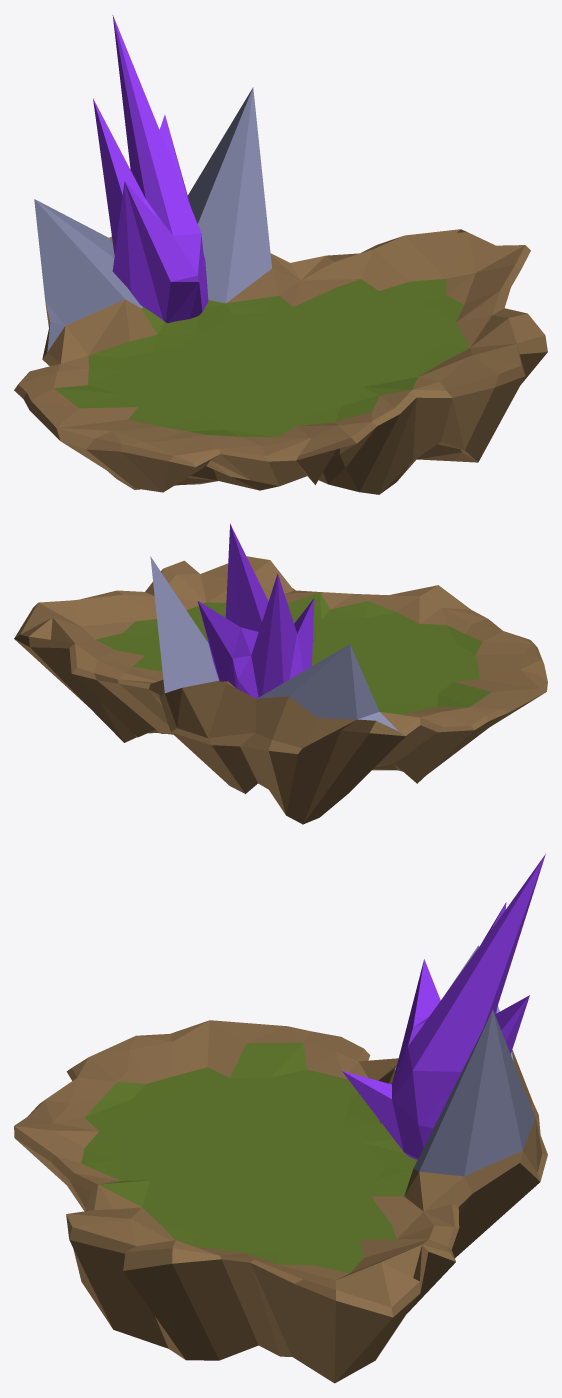
The model's file is IslandFinal.fbx.
3 views of the same model, one above another, from view 1: azimuth 30°, elevation 25°; view 2: azimuth 150°, elevation 25°; view 3: azimuth 270°, elevation 25° (orthographic). The views are drawn at different scales.
Visible parts, largest first — view 1: IslaFinal, Cristal; view 2: IslaFinal, Cristal; view 3: IslaFinal, Cristal.
Part boxes in pixels (x1,y1,x2,y2): IslaFinal: (14,87,547,494); Cristal: (93,15,208,323); IslaFinal: (14,556,547,824); Cristal: (197,523,314,698); IslaFinal: (14,945,547,1383); Cristal: (342,854,545,1159).
Size of the model in its own units: 18314 by 12423 by 14330.
